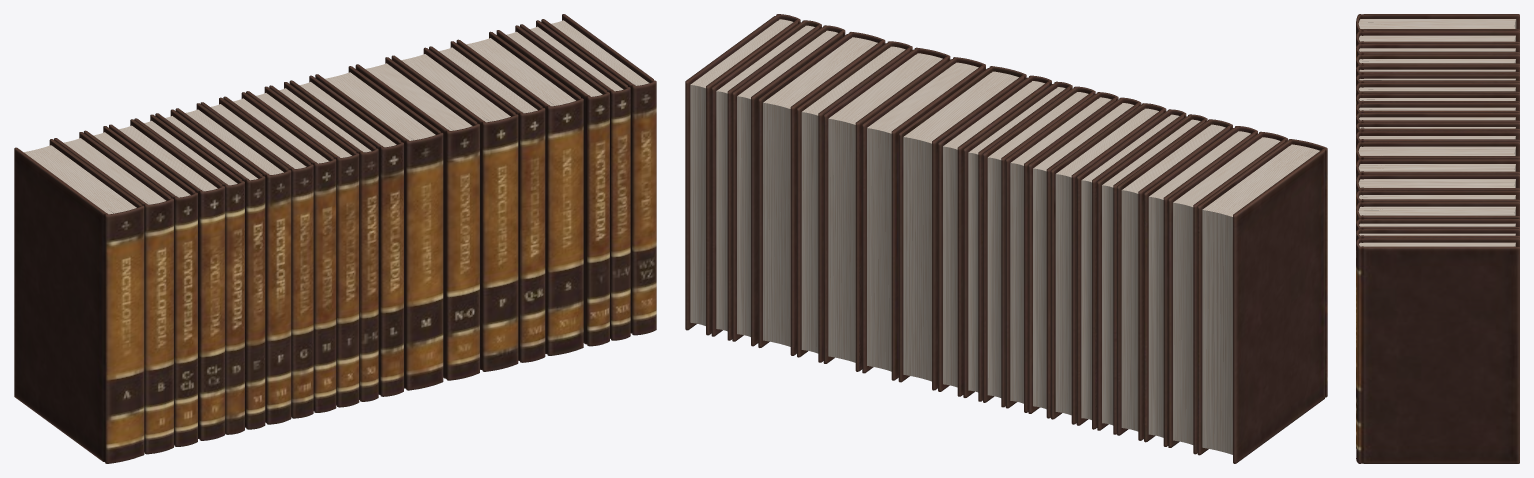
File: book_encyclopedia_set_01_lod1.glb
3 renders of one model, left to right at view 1: azimuth 30°, elevation 25°; view 2: azimuth 150°, elevation 25°; view 3: azimuth 270°, elevation 25°, orthographic. The views are drawn at different scales.
Parts seen in each view (by area): view 1: book_encyclopedia_set_01_book01, book_encyclopedia_set_01_book13, book_encyclopedia_set_01_book15, book_encyclopedia_set_01_book17, book_encyclopedia_set_01_book14, book_encyclopedia_set_01_book02, book_encyclopedia_set_01_book16, book_encyclopedia_set_01_book04, book_encyclopedia_set_01_book18, book_encyclopedia_set_01_book20, book_encyclopedia_set_01_book07, book_encyclopedia_set_01_book12 (+8 smaller); view 2: book_encyclopedia_set_01_book01, book_encyclopedia_set_01_book13, book_encyclopedia_set_01_book15, book_encyclopedia_set_01_book17, book_encyclopedia_set_01_book14, book_encyclopedia_set_01_book02, book_encyclopedia_set_01_book04, book_encyclopedia_set_01_book16, book_encyclopedia_set_01_book18, book_encyclopedia_set_01_book20, book_encyclopedia_set_01_book07, book_encyclopedia_set_01_book12 (+8 smaller); view 3: book_encyclopedia_set_01_book20, book_encyclopedia_set_01_book01, book_encyclopedia_set_01_book13, book_encyclopedia_set_01_book17, book_encyclopedia_set_01_book14, book_encyclopedia_set_01_book15, book_encyclopedia_set_01_book02, book_encyclopedia_set_01_book16, book_encyclopedia_set_01_book03, book_encyclopedia_set_01_book18, book_encyclopedia_set_01_book12, book_encyclopedia_set_01_book04 (+8 smaller).
Boxes of the visible parts, box(x1,y1,x2,y2) form: book_encyclopedia_set_01_book01: box(14, 139, 144, 463); book_encyclopedia_set_01_book13: box(315, 66, 443, 390); book_encyclopedia_set_01_book15: box(391, 47, 518, 371); book_encyclopedia_set_01_book17: box(456, 31, 583, 355); book_encyclopedia_set_01_book14: box(355, 57, 479, 380); book_encyclopedia_set_01_book02: box(54, 132, 173, 454); book_encyclopedia_set_01_book16: box(429, 41, 545, 362); book_encyclopedia_set_01_book04: box(109, 119, 224, 440); book_encyclopedia_set_01_book18: box(496, 25, 609, 346); book_encyclopedia_set_01_book20: box(541, 14, 656, 335); book_encyclopedia_set_01_book07: box(175, 103, 291, 424); book_encyclopedia_set_01_book12: box(289, 75, 403, 396); book_encyclopedia_set_01_book01: box(1197, 139, 1327, 463); book_encyclopedia_set_01_book13: box(898, 66, 1026, 390); book_encyclopedia_set_01_book15: box(823, 47, 950, 371); book_encyclopedia_set_01_book17: box(758, 32, 885, 355); book_encyclopedia_set_01_book14: box(862, 57, 985, 380); book_encyclopedia_set_01_book02: box(1168, 131, 1287, 454); book_encyclopedia_set_01_book04: box(1117, 119, 1232, 440); book_encyclopedia_set_01_book16: box(797, 41, 912, 362); book_encyclopedia_set_01_book18: box(732, 25, 845, 346); book_encyclopedia_set_01_book20: box(685, 14, 800, 335); book_encyclopedia_set_01_book07: box(1051, 103, 1166, 424); book_encyclopedia_set_01_book12: box(938, 75, 1051, 396); book_encyclopedia_set_01_book20: box(1356, 238, 1519, 463); book_encyclopedia_set_01_book01: box(1356, 14, 1519, 59); book_encyclopedia_set_01_book13: box(1356, 142, 1519, 162); book_encyclopedia_set_01_book17: box(1356, 202, 1519, 221); book_encyclopedia_set_01_book14: box(1356, 159, 1519, 222); book_encyclopedia_set_01_book15: box(1356, 174, 1519, 193); book_encyclopedia_set_01_book02: box(1356, 30, 1519, 46); book_encyclopedia_set_01_book16: box(1356, 190, 1519, 206); book_encyclopedia_set_01_book03: box(1356, 43, 1519, 57); book_encyclopedia_set_01_book18: box(1356, 218, 1519, 407); book_encyclopedia_set_01_book12: box(1356, 131, 1519, 146); book_encyclopedia_set_01_book04: box(1356, 54, 1519, 68).
Size of the model in its own units: 0.5513 by 0.2374 by 0.1631.
2 materials, 2 textured.
